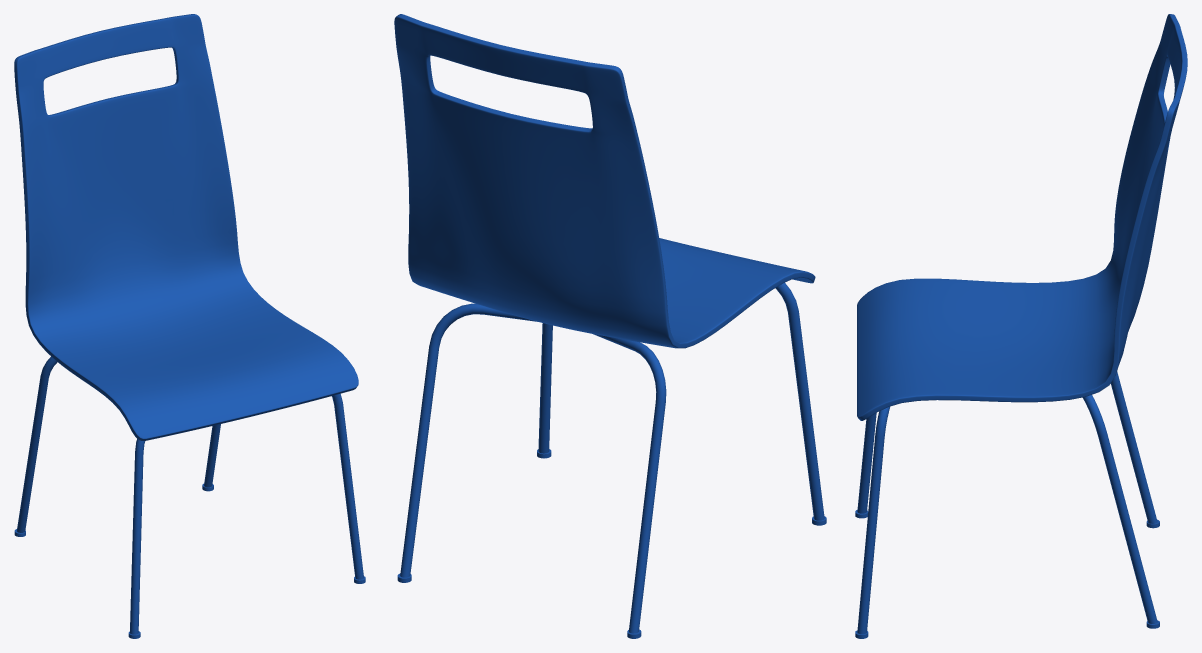
The model's file is dch.obj.
3 views of the same model, side by side, from view 1: azimuth 30°, elevation 25°; view 2: azimuth 150°, elevation 25°; view 3: azimuth 270°, elevation 25° (orthographic). The views are drawn at different scales.
Visible parts, largest first — view 1: Object002, Object003; view 2: Object002, Object003; view 3: Object002, Object003.
Boxes of the visible parts, bbox=[...] form: Object002: bbox=[14, 14, 358, 440]; Object003: bbox=[17, 356, 363, 634]; Object002: bbox=[394, 14, 815, 348]; Object003: bbox=[400, 282, 824, 633]; Object002: bbox=[857, 14, 1187, 420]; Object003: bbox=[857, 371, 1157, 634].
Bounding box in the file's own units: 46.38 × 88.39 × 51.69.
